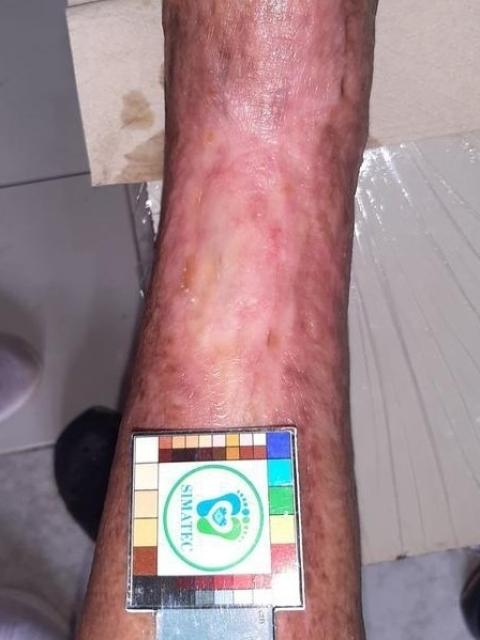wound: (296, 312, 320, 336), (268, 222, 282, 250)
